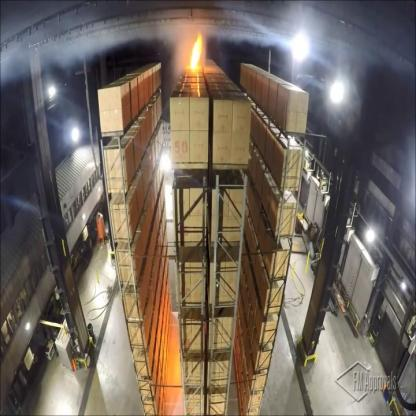fire: (190, 30, 202, 77)
